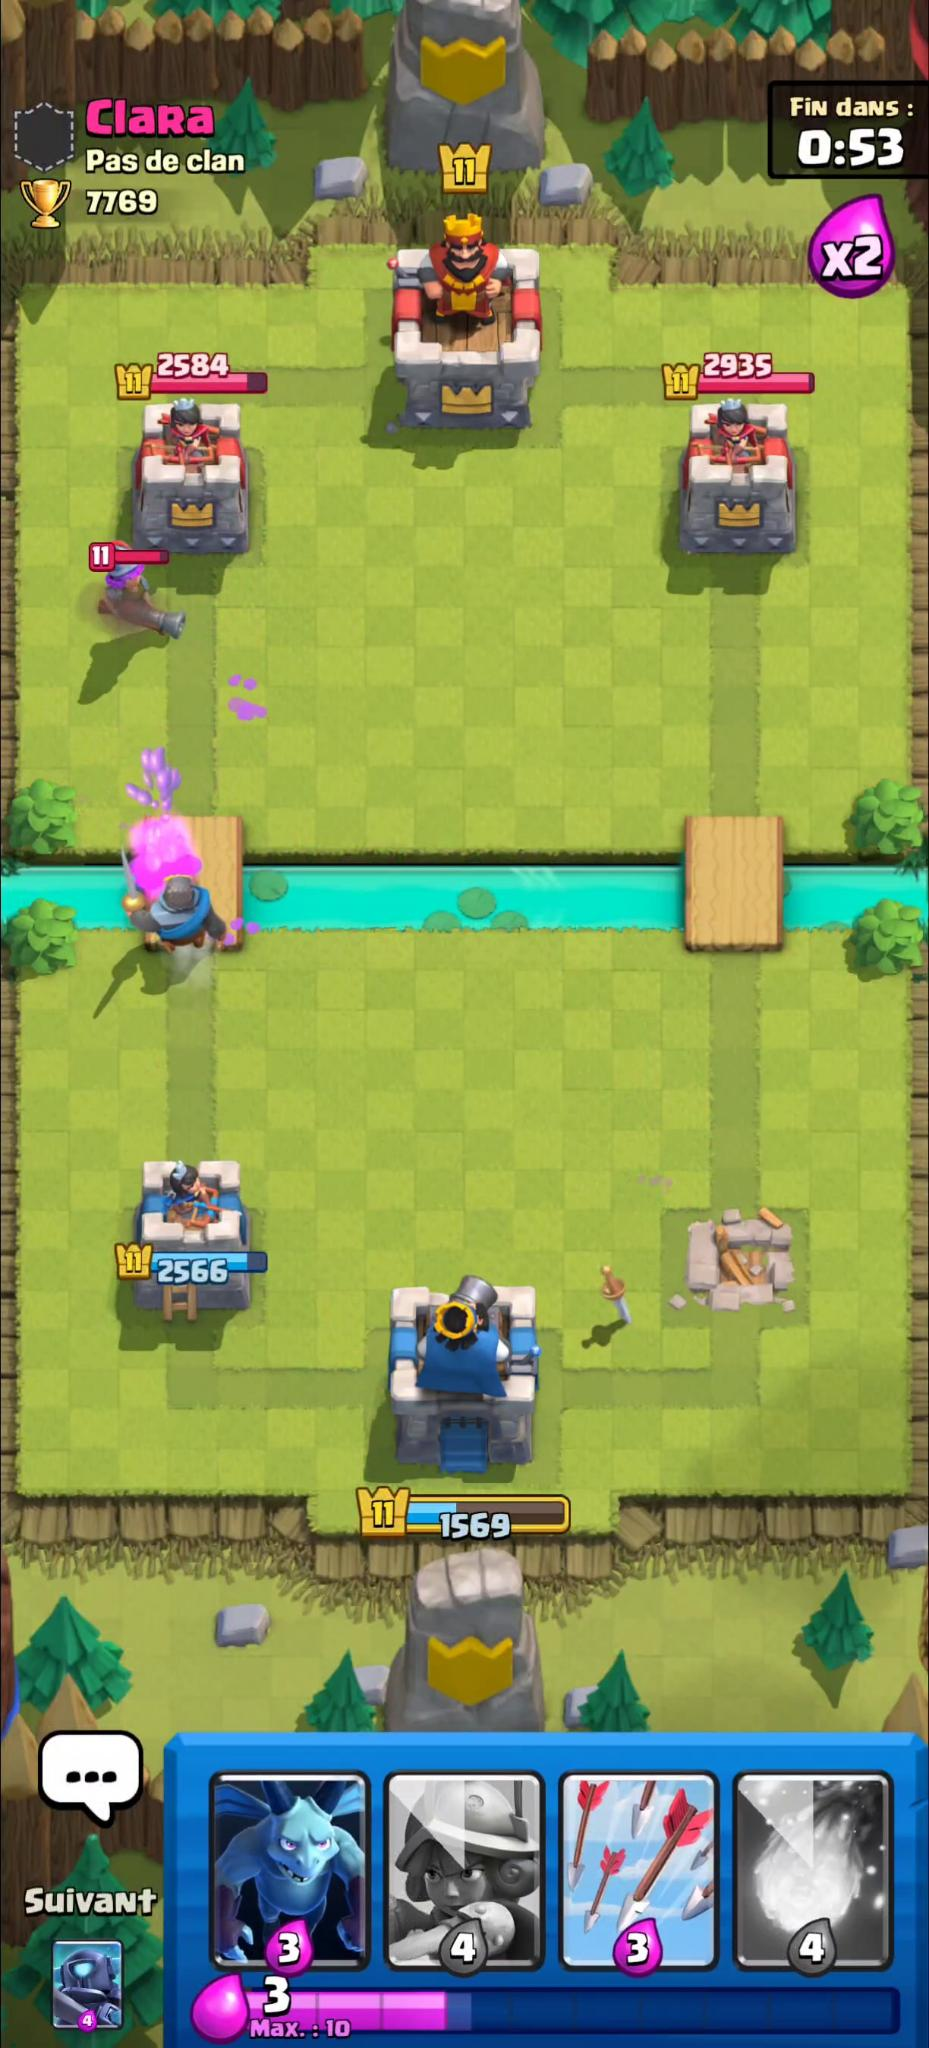chevalier: (118, 840, 229, 959)
mousquetaire: (93, 539, 189, 644)
